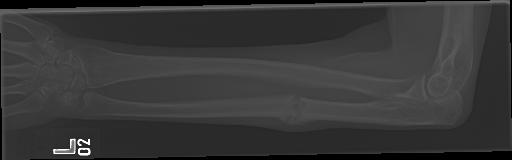forearm fracture: (274, 88, 321, 129)
